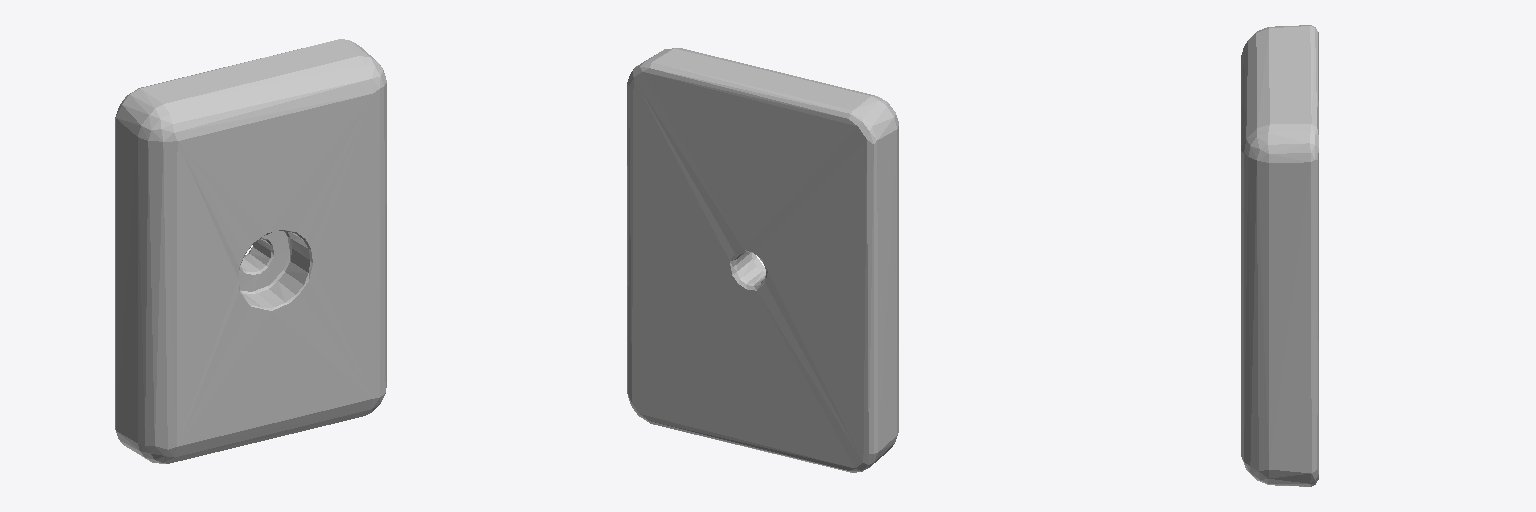
The model's file is weight_center1_vis.obj.
3 renders of one model, left to right at view 1: azimuth 30°, elevation 25°; view 2: azimuth 150°, elevation 25°; view 3: azimuth 270°, elevation 25°, orthographic.
Visible parts, largest first — view 1: Weight_center1_vis; view 2: Weight_center1_vis; view 3: Weight_center1_vis.
Part boxes in pixels (x1,y1,x2,y2): Weight_center1_vis: (115, 39, 386, 463); Weight_center1_vis: (627, 48, 898, 472); Weight_center1_vis: (1241, 25, 1318, 486).
Size of the model in its own units: 0.0416 by 0.0574 by 0.0112.